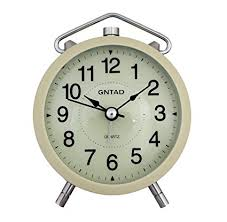alarm_clock: (32, 17, 194, 204), (32, 13, 189, 204), (32, 17, 189, 204)
